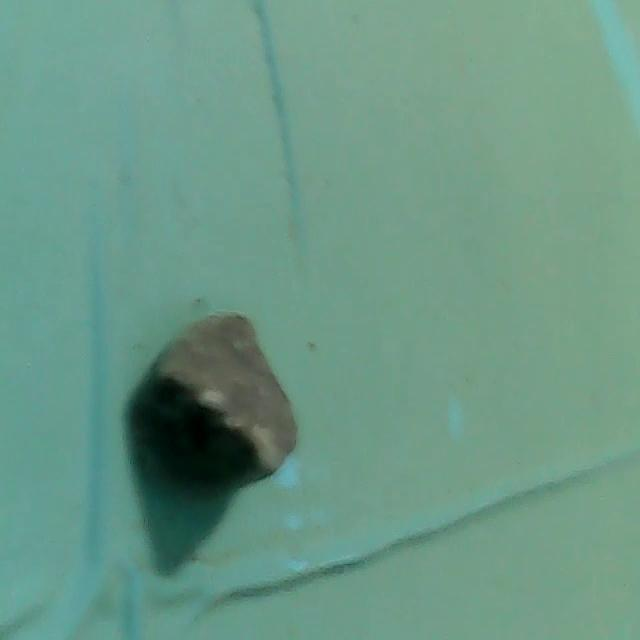rock: (113, 302, 312, 507)
